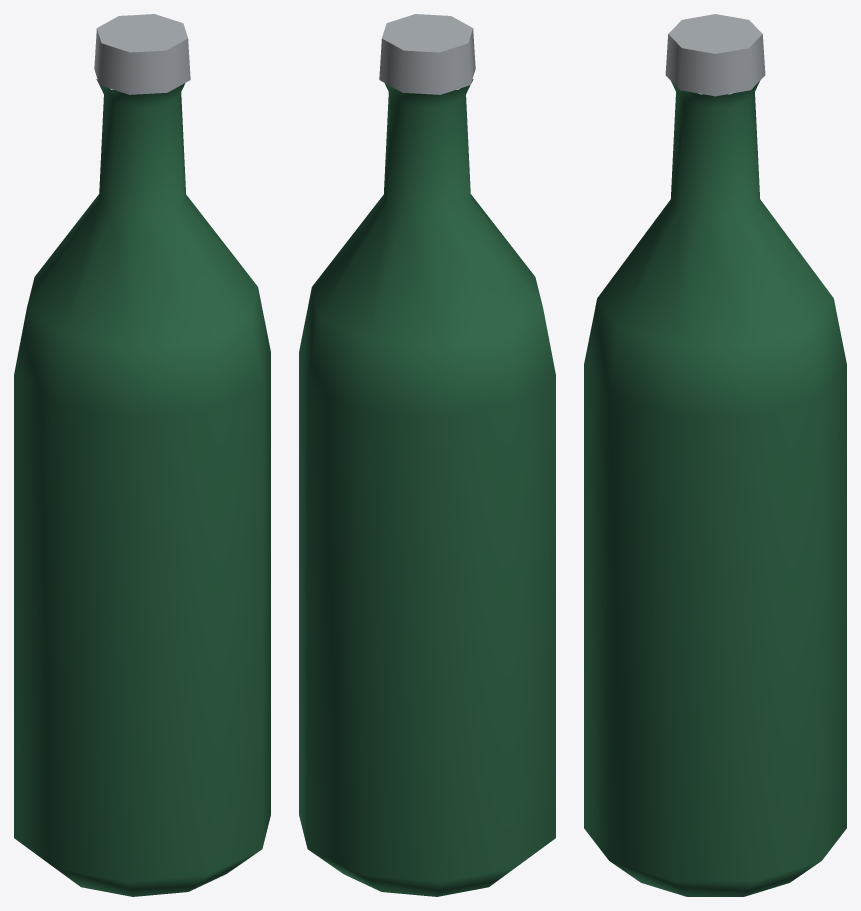
Rendered from BOTTLE.glb.
The picture shows the model from 3 angles, left to right: view 1: azimuth 30°, elevation 25°; view 2: azimuth 150°, elevation 25°; view 3: azimuth 270°, elevation 25°; orthographic projection.
Parts seen in each view (by area): view 1: glassTint_0, steel_1; view 2: glassTint_0, steel_1; view 3: glassTint_0, steel_1.
Part boxes in pixels (x1,y1,x2,y2): glassTint_0: [14, 79, 270, 896]; steel_1: [94, 14, 190, 94]; glassTint_0: [299, 79, 555, 896]; steel_1: [379, 14, 475, 94]; glassTint_0: [584, 81, 846, 896]; steel_1: [665, 14, 765, 96].
Size of the model in its own units: 0.0713 by 0.26 by 0.075.
